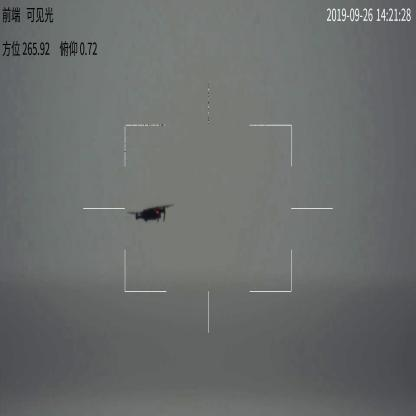uav: (128, 202, 171, 227)
